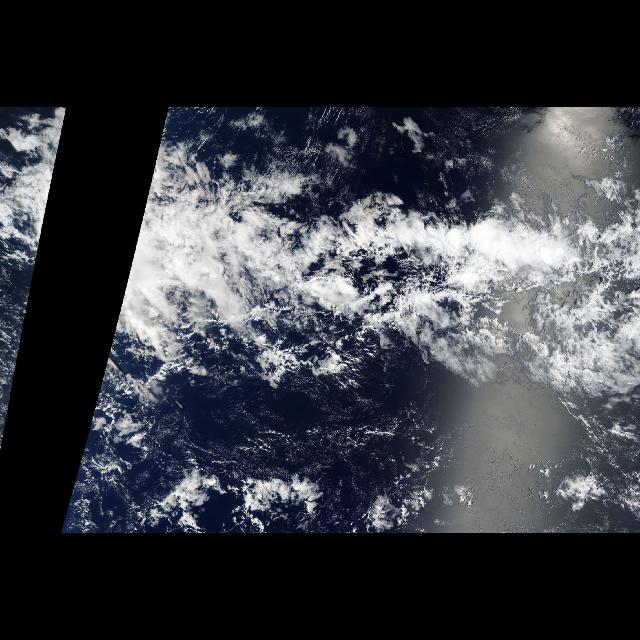Fish: (85, 115, 639, 437), (4, 116, 66, 430)
Gravel: (107, 375, 436, 525)
Sugar: (176, 375, 520, 477)
